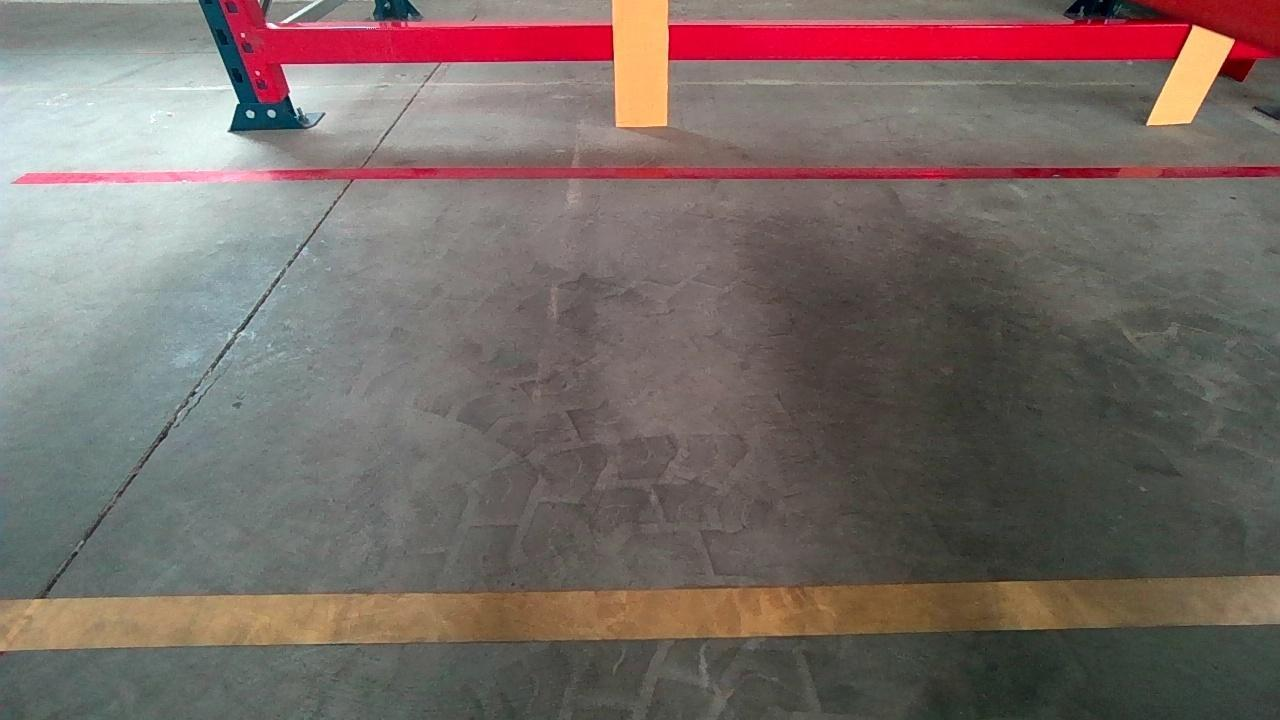h_rack: (271, 25, 1279, 56)
orange_strip: (1148, 26, 1238, 122), (614, 2, 670, 125)
red_line: (0, 164, 1280, 182)
yellow_line: (1, 573, 1267, 654)
